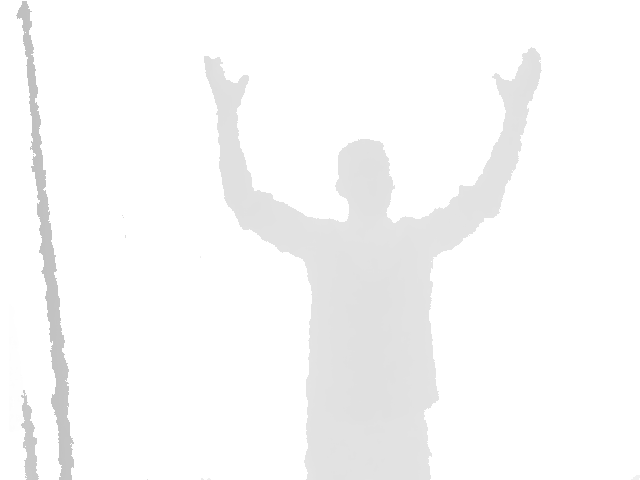hand: (492, 46, 542, 116), (203, 55, 250, 113)
head: (335, 138, 395, 219)
person: (203, 46, 543, 480)
